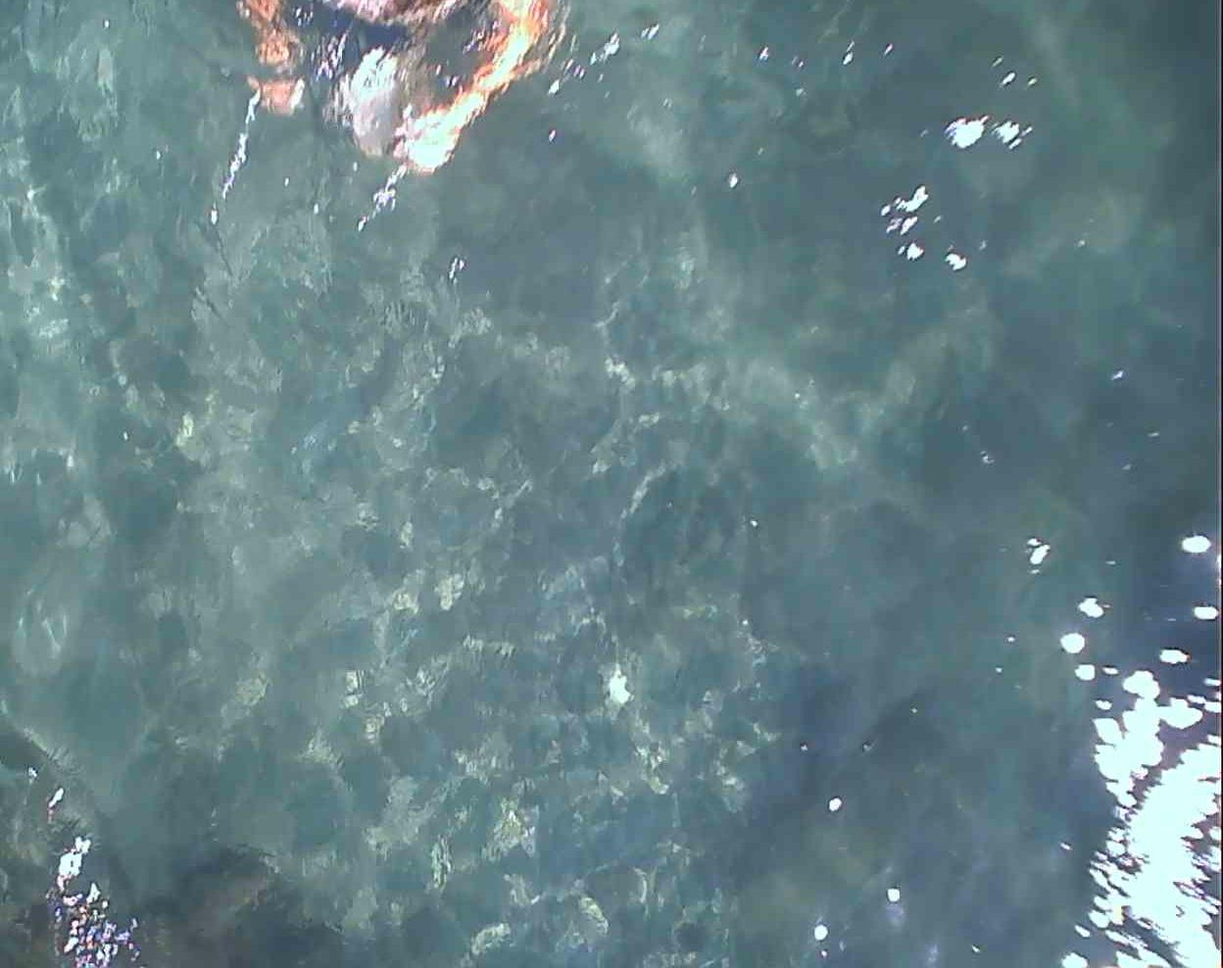swimmer: (263, 0, 569, 183)
